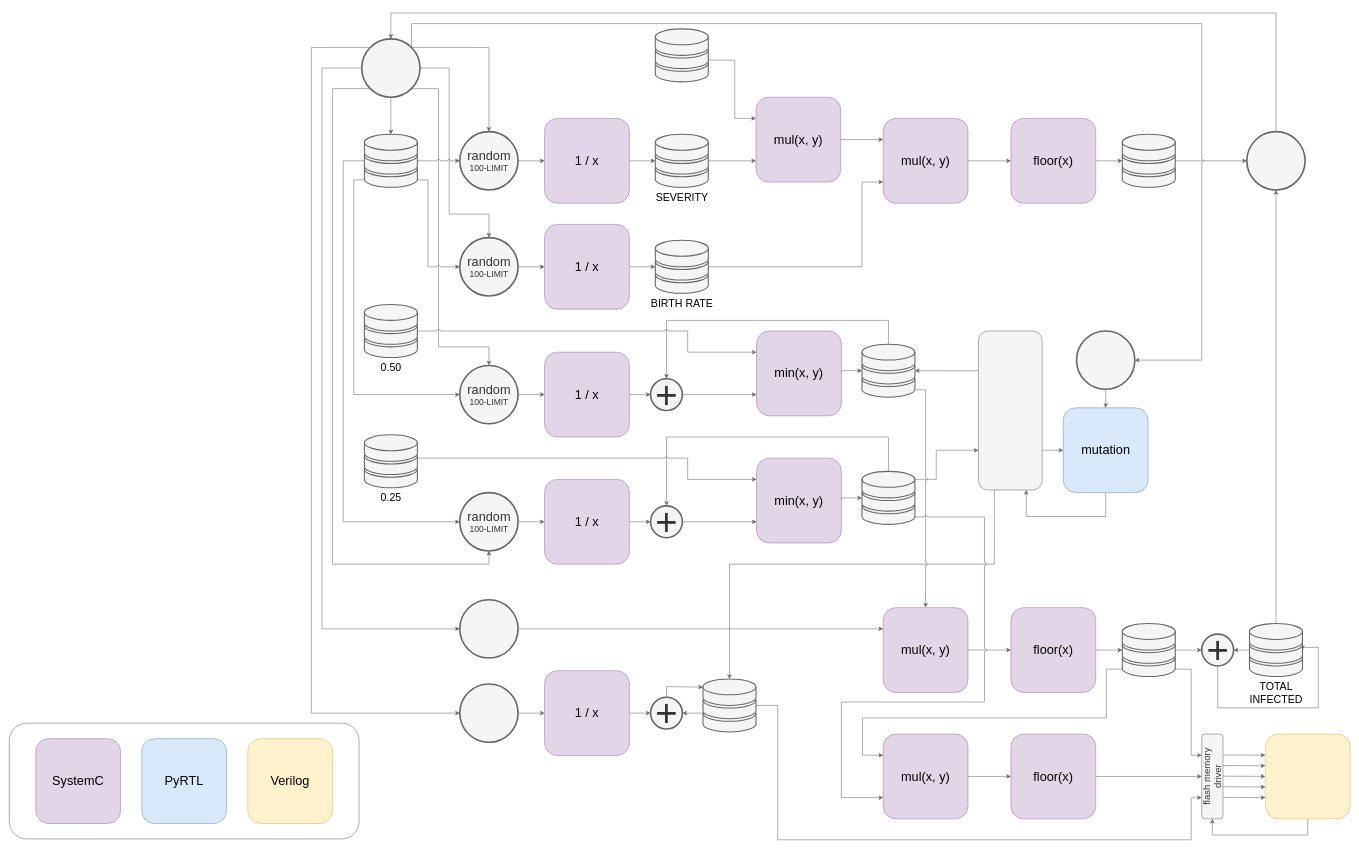
This 1359x853 diagram has some shape labels left out. The shapes that lost their labels are listed below. From the top down, each one's box as (x1, y1, x2, y2) in pixels, then its label:
(361, 38, 421, 98): RNG 100-1023
(654, 28, 709, 82): POPULATION TOTAL
(364, 134, 418, 188): LIMIT
(1121, 134, 1176, 188): CURE THRESHOLD
(1246, 131, 1306, 190): main
(861, 343, 915, 397): INFECTIVITY
(1075, 330, 1135, 390): random 0-8
(978, 330, 1042, 490): mutation controller
(861, 471, 915, 525): FATALITY
(459, 599, 519, 659): random TIME-999
(1121, 623, 1176, 677): INFECTED TODAY
(459, 683, 519, 743): random 2-100
(702, 678, 756, 732): CURE
(1265, 734, 1350, 819): flash memory
